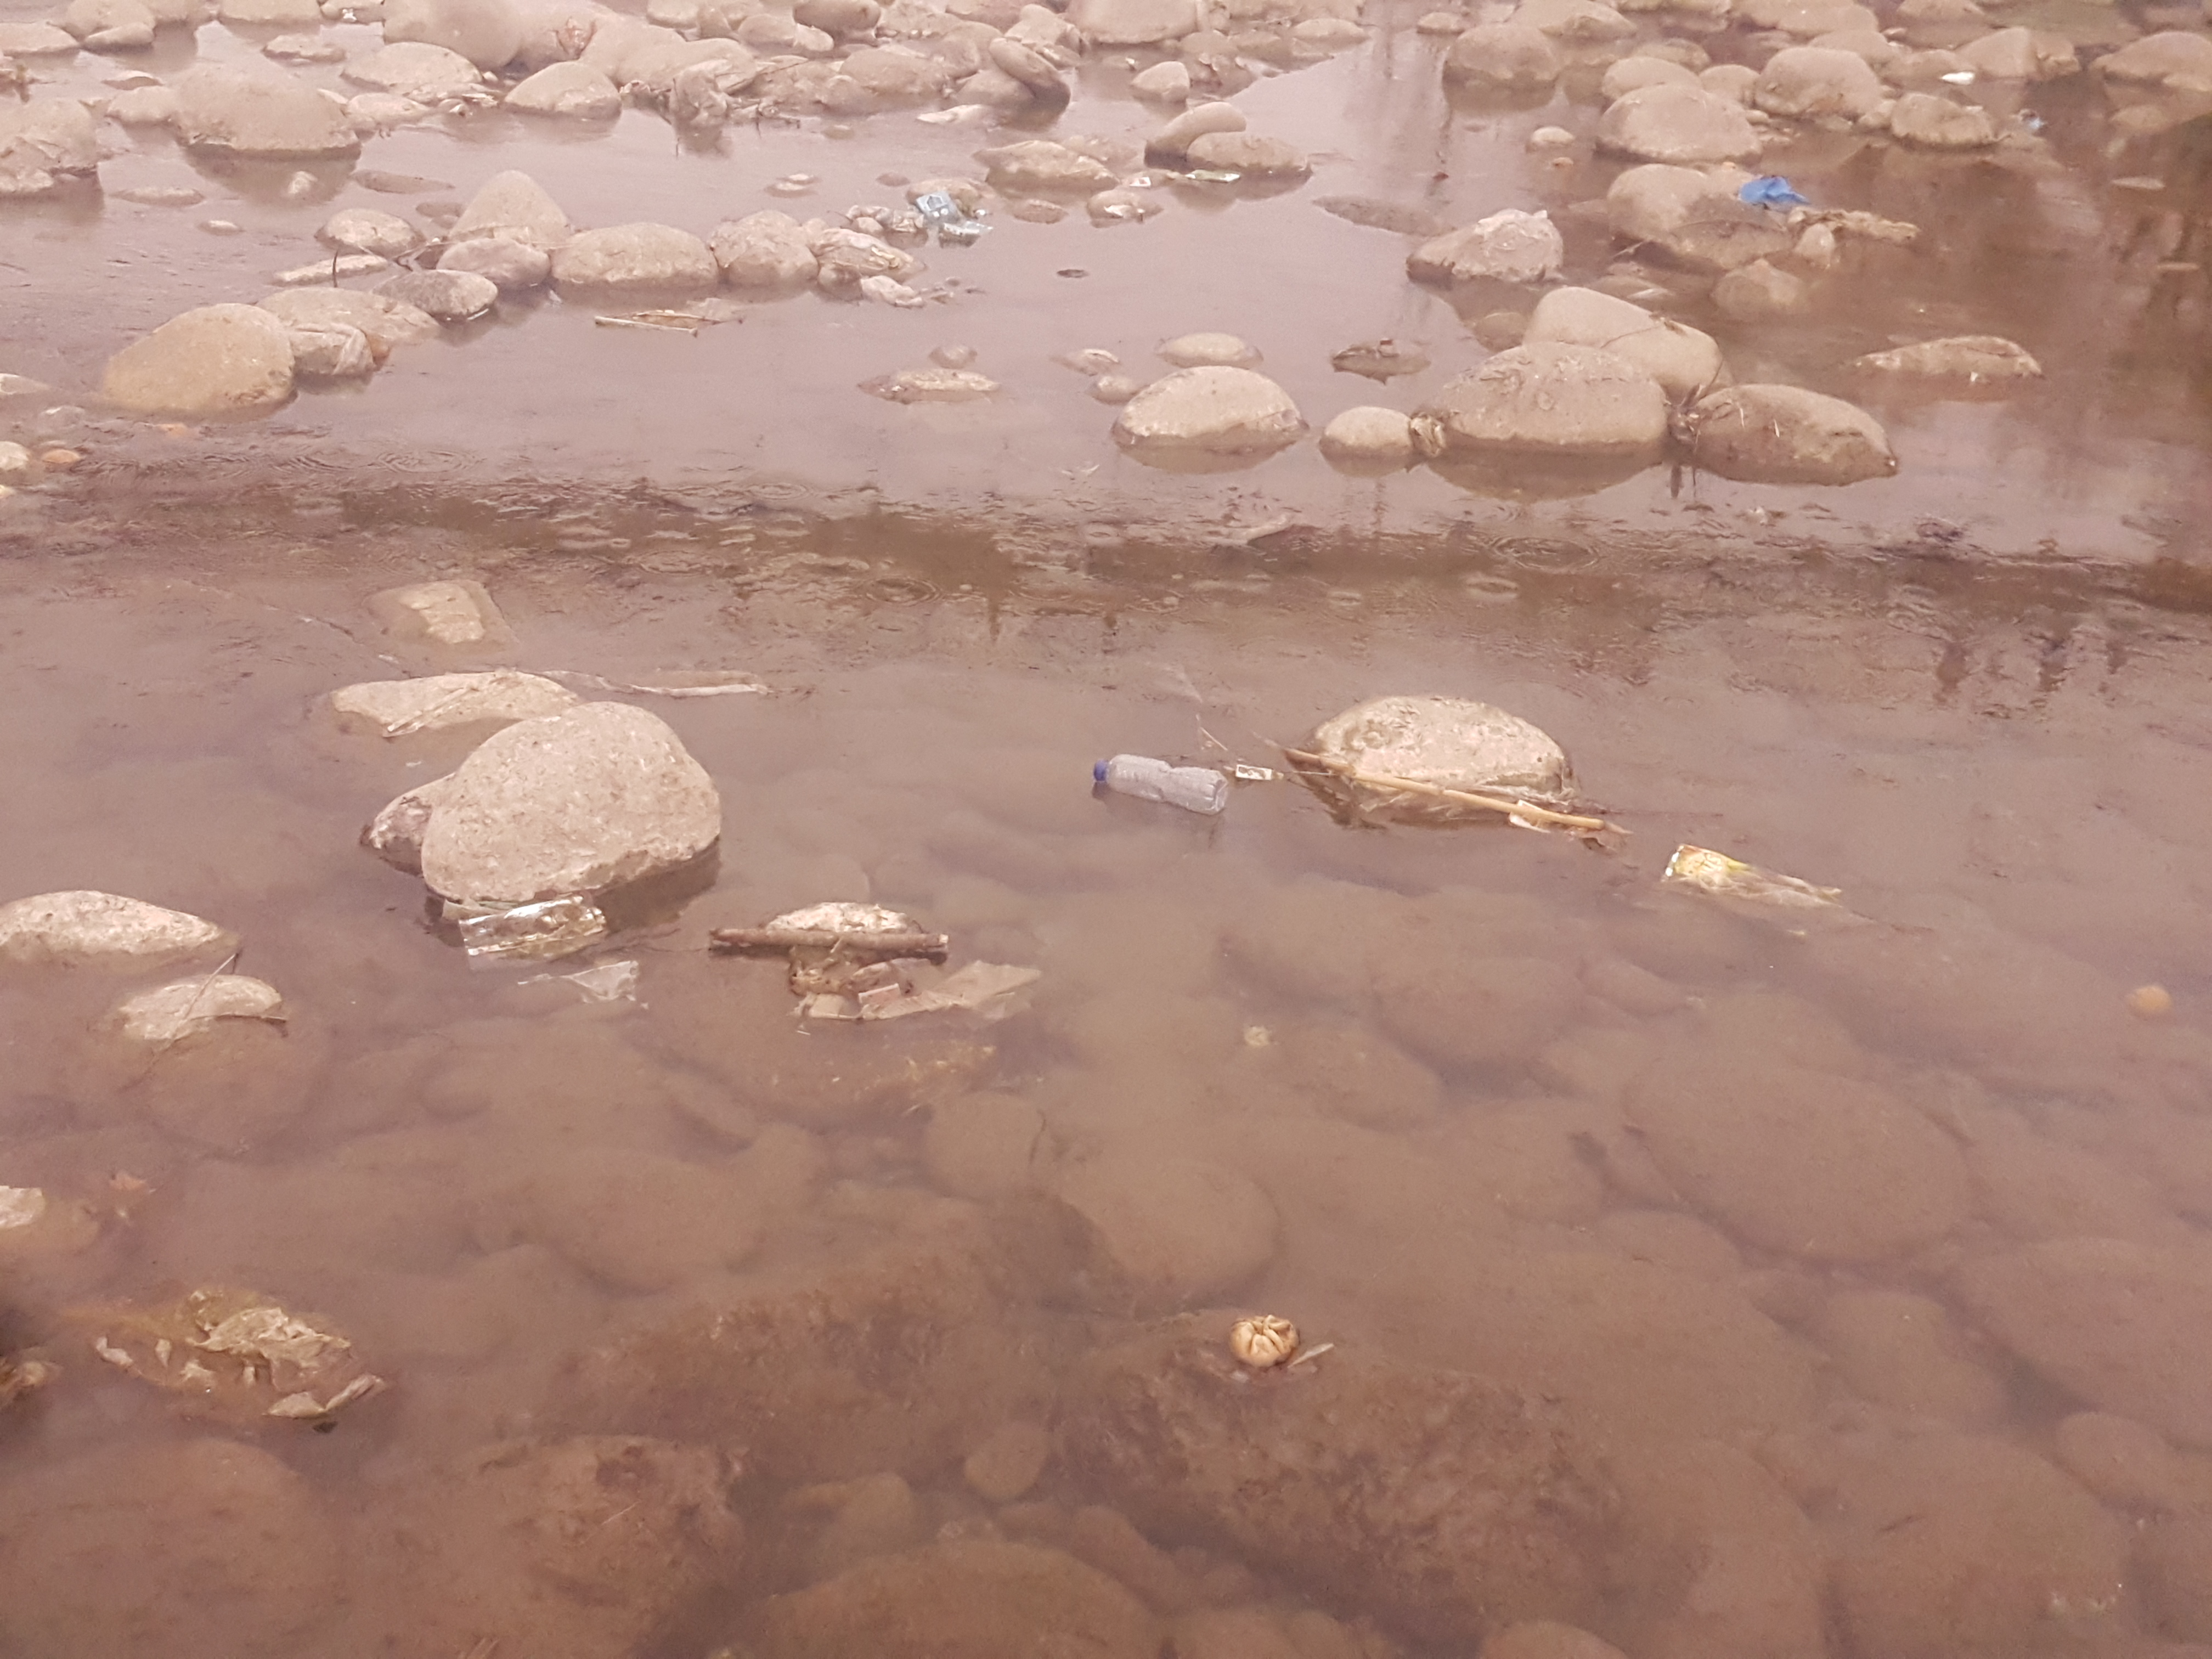Plastic Bottle: (1092, 755, 1226, 816), (860, 275, 923, 307)
